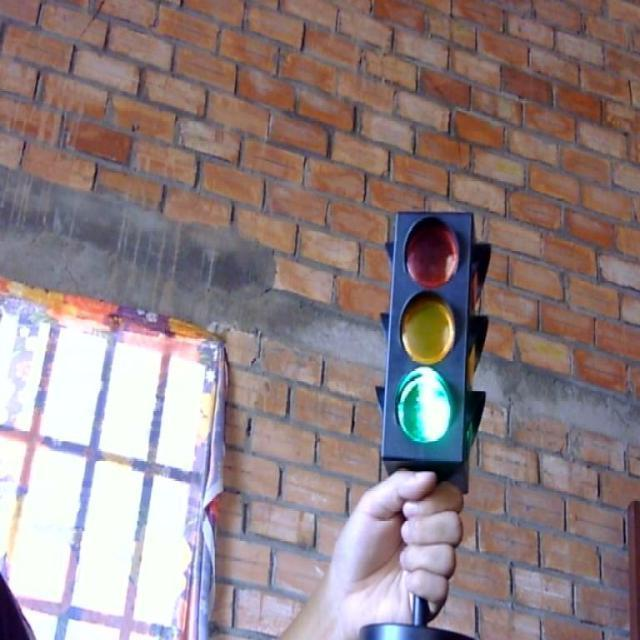green_light: (377, 210, 489, 490), (359, 597, 469, 637)
